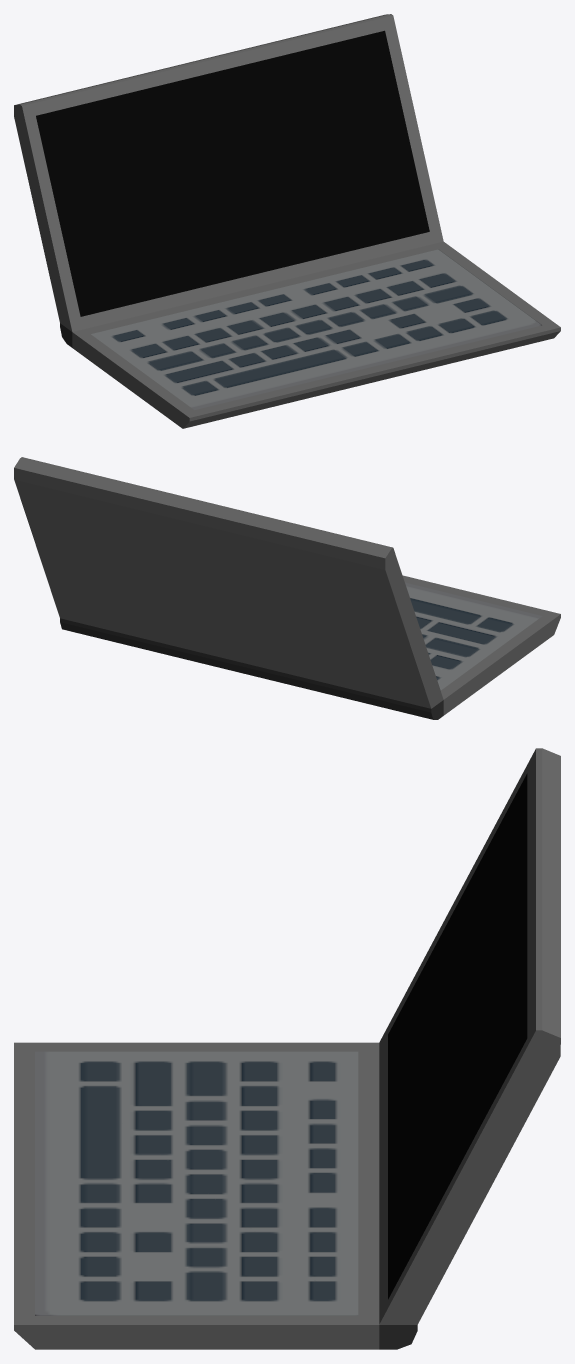
The model's file is Laptop.fbx.
3 views of the same model, one above another, from view 1: azimuth 30°, elevation 25°; view 2: azimuth 150°, elevation 25°; view 3: azimuth 270°, elevation 25° (orthographic). The views are drawn at different scales.
Visible parts, largest first — view 1: Laptop; view 2: Laptop; view 3: Laptop.
Part boxes in pixels (x1,y1,x2,y2): Laptop: (14, 14, 560, 428); Laptop: (14, 457, 560, 719); Laptop: (14, 748, 560, 1349).
Size of the model in its own units: 82.36 by 43.47 by 67.48.
